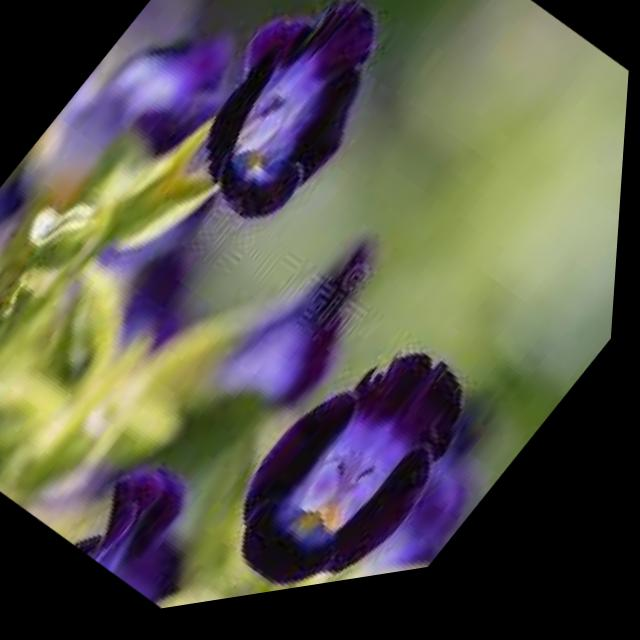Flower: (193, 292, 520, 612)
